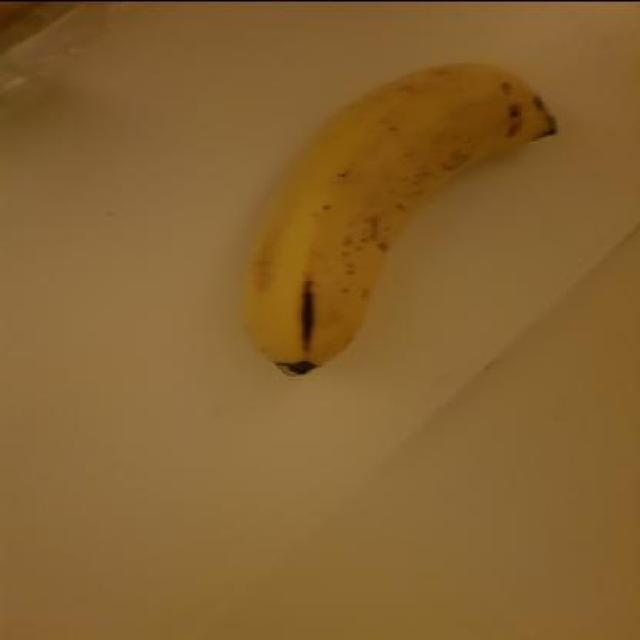Banana: (228, 54, 568, 380)
